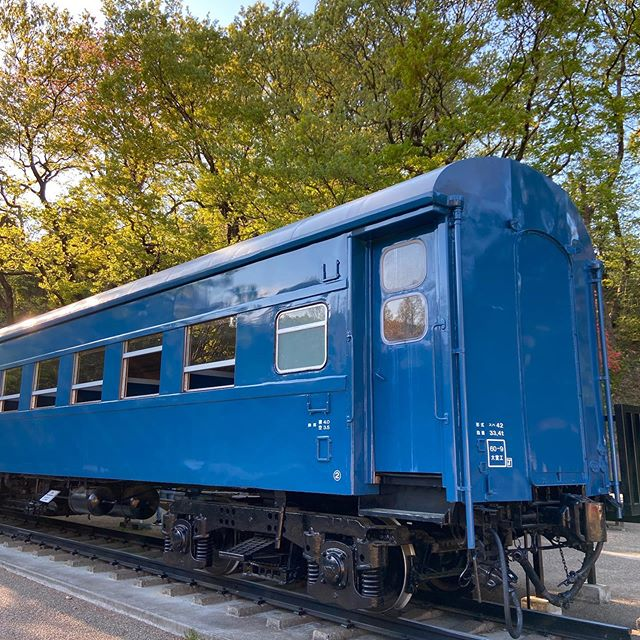train: (1, 192, 577, 628)
vegetation: (38, 1, 640, 247)
